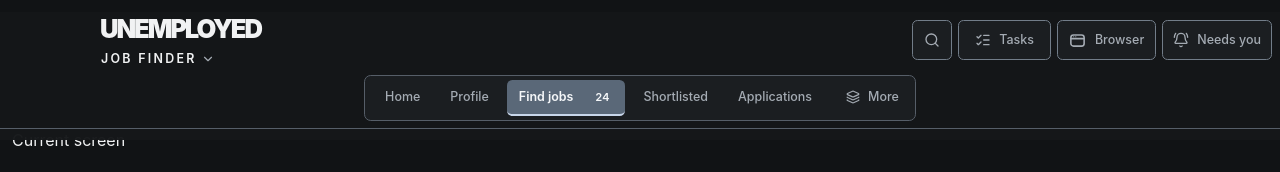
JobFinderShell section navigation › keeps the module switch in the brand lockup at the wide layout
Click the button "Job Finder" at (158, 59), box [96,49,220,69]
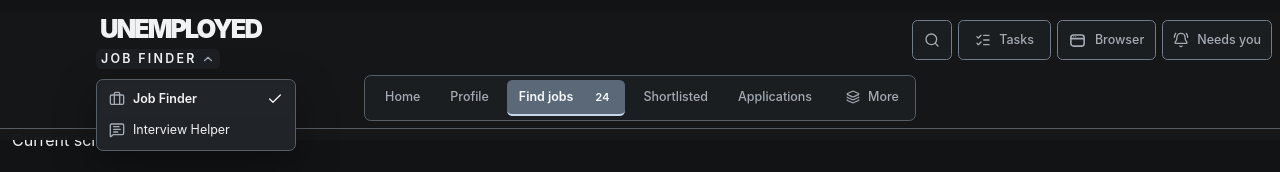
Check: the text "Job Finder" is shown, box [101,53,197,65]
Check: the text "Interview Helper" is shown, box [133,122,230,137]
